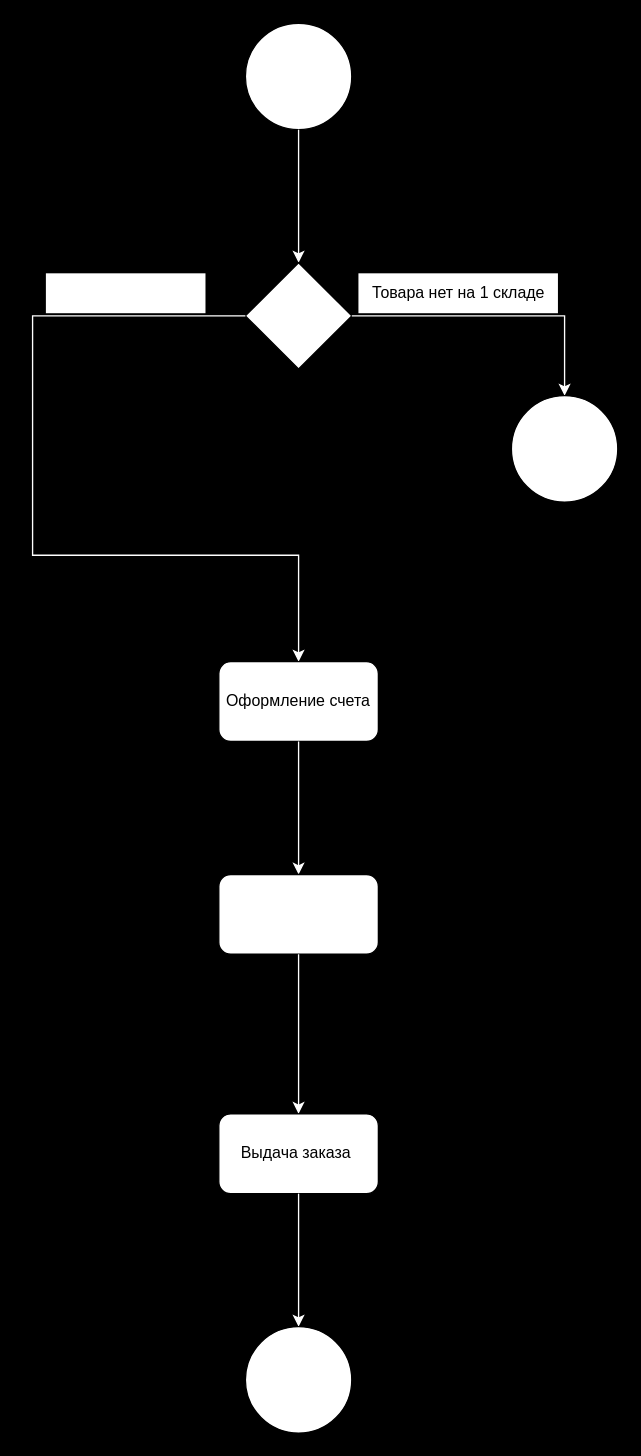
Image size: 641x1456. Some labels were removed from this diagram. Here are the shapes that lost their labels. From the top down, the centre of each, then its label:
[125,293]: Товар на 1 складе
[297,913]: Оформление накладной
